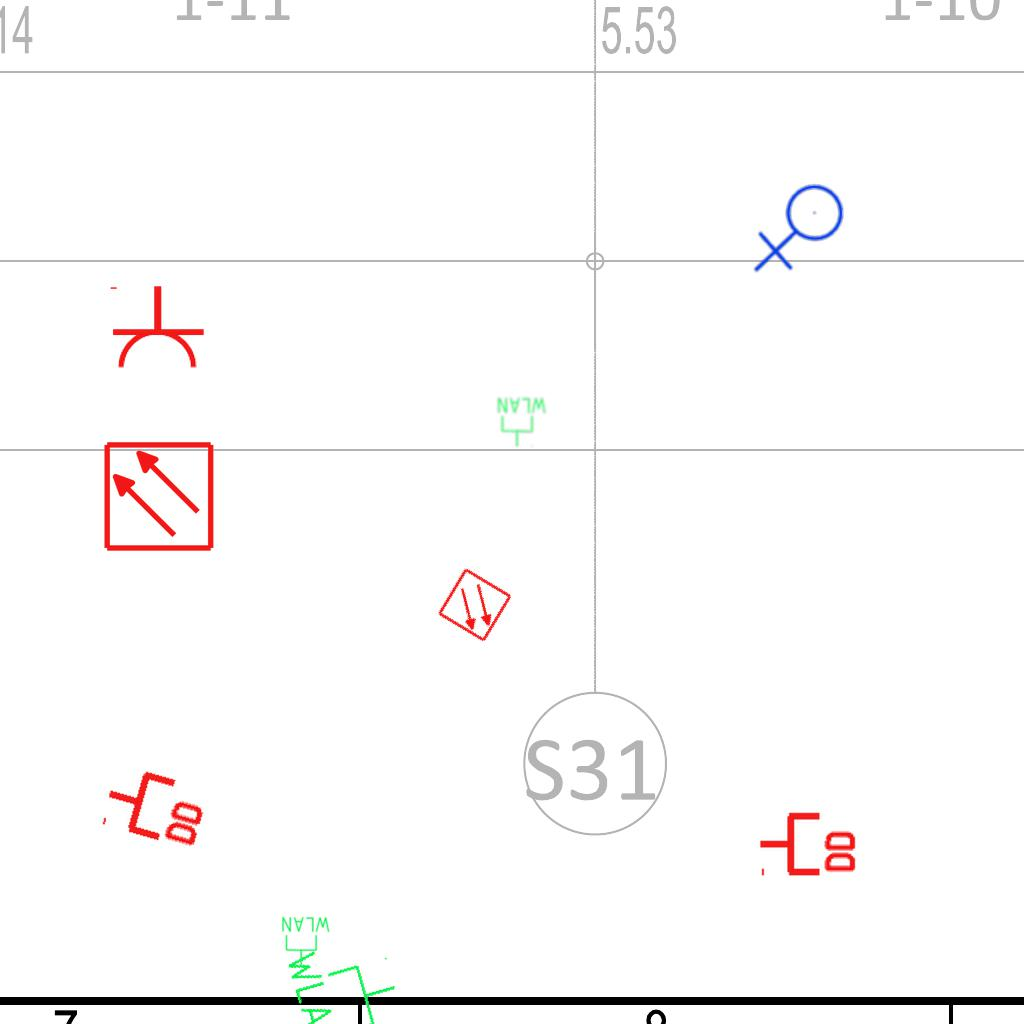Datenanschluss_zweifach: (97, 758, 216, 853), (757, 808, 860, 877)
Elektroanschluss_allgemein_230V_Geraeteanschlussdose_230V: (753, 183, 852, 277)
RMO_Rauchmelder_optischer: (102, 440, 215, 553), (436, 566, 514, 644)
Schukosteckdose_einfach: (106, 284, 206, 371)
WLAN: (280, 926, 410, 1024), (280, 915, 332, 967), (496, 396, 548, 448)
